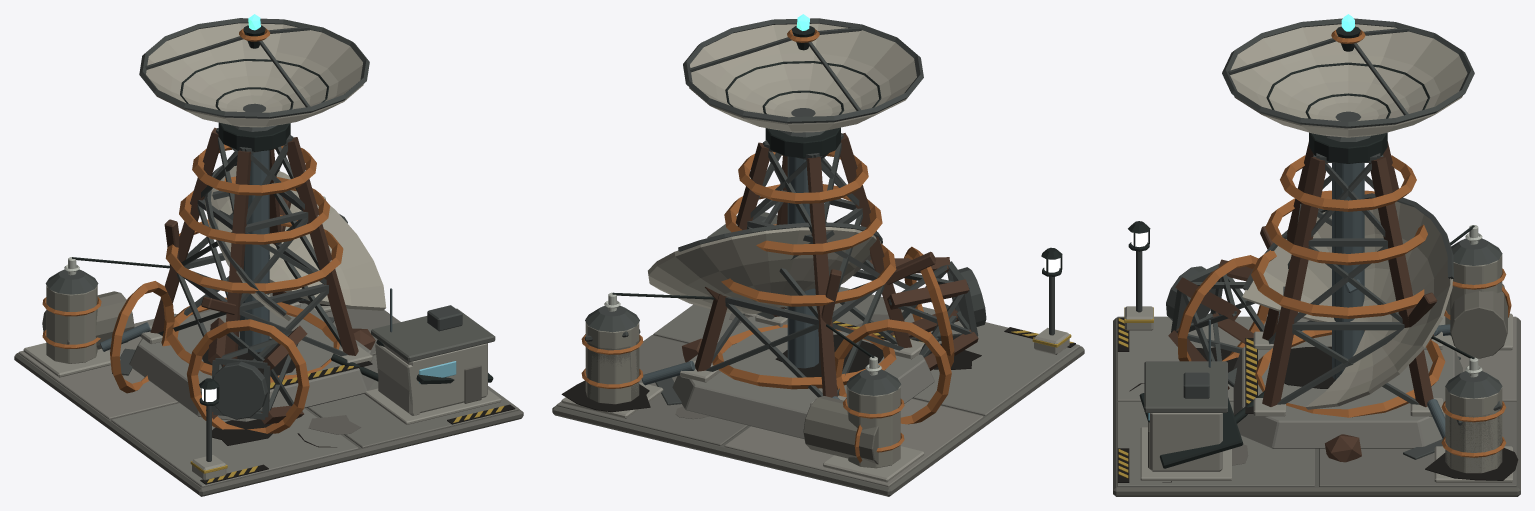
The model's file is t_ion.glb.
3 views of the same model, side by side, from view 1: azimuth 30°, elevation 25°; view 2: azimuth 150°, elevation 25°; view 3: azimuth 270°, elevation 25° (orthographic). The views are drawn at different scales.
Parts seen in each view (by area): view 1: Intact structure, Site foundation, Ruined structure; view 2: Intact structure, Site foundation, Ruined structure; view 3: Intact structure, Site foundation, Ruined structure.
Boxes of the visible parts, <box> form: Intact structure: <box>42,14,495,414</box>; Site foundation: <box>14,293,523,496</box>; Ruined structure: <box>42,164,493,445</box>; Intact structure: <box>581,14,923,468</box>; Site foundation: <box>552,247,1084,496</box>; Ruined structure: <box>561,222,986,464</box>; Intact structure: <box>1144,14,1506,472</box>; Site foundation: <box>1113,221,1520,496</box>; Ruined structure: <box>1139,193,1518,480</box>.
Size of the model in its own units: 7.8 by 8.4 by 7.8.
